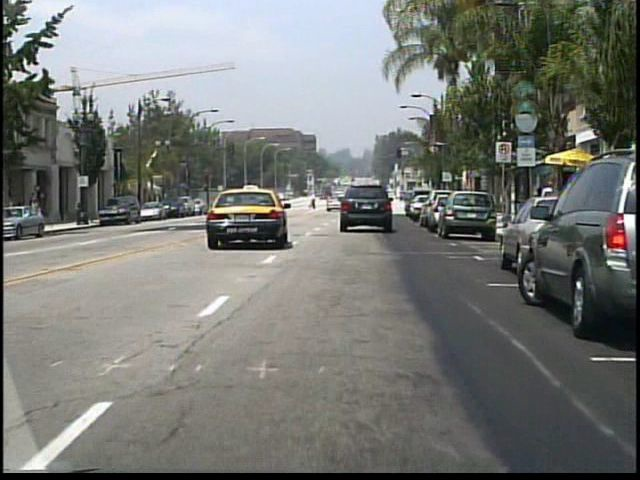person: (31, 195, 44, 227), (310, 191, 320, 211), (307, 192, 317, 212)
